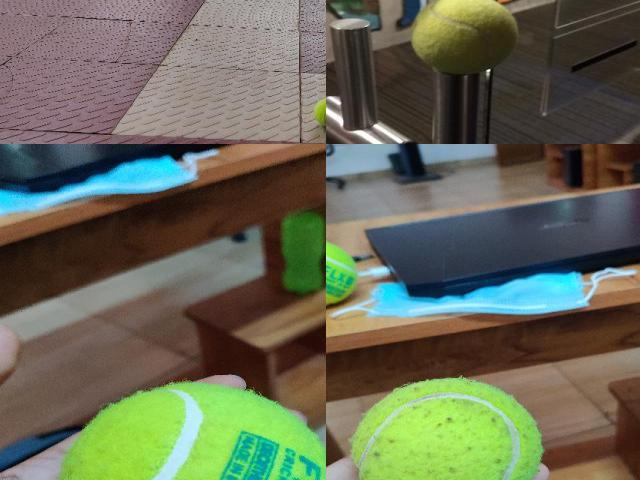tennis-ball: (56, 382, 325, 480), (349, 376, 544, 480), (409, 0, 520, 75), (326, 238, 358, 308), (313, 96, 325, 128)
